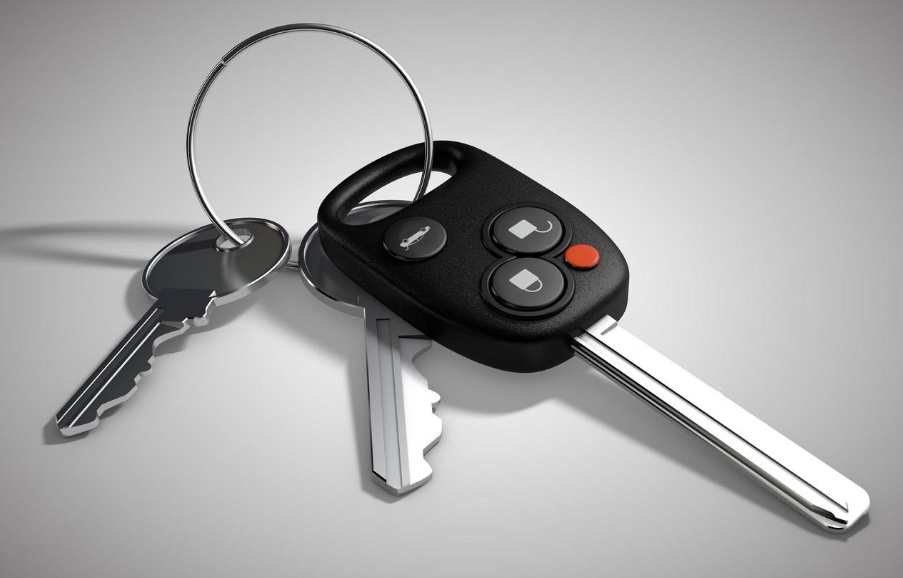Frontdoor keys: (54, 55, 849, 546)
